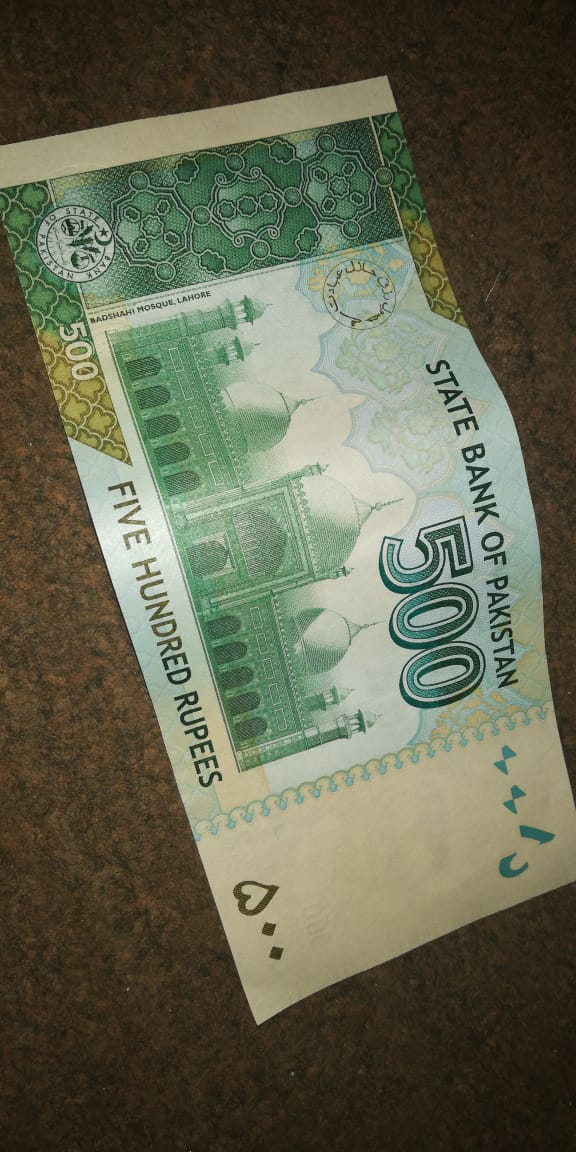500 rupee: (23, 74, 567, 1069)
